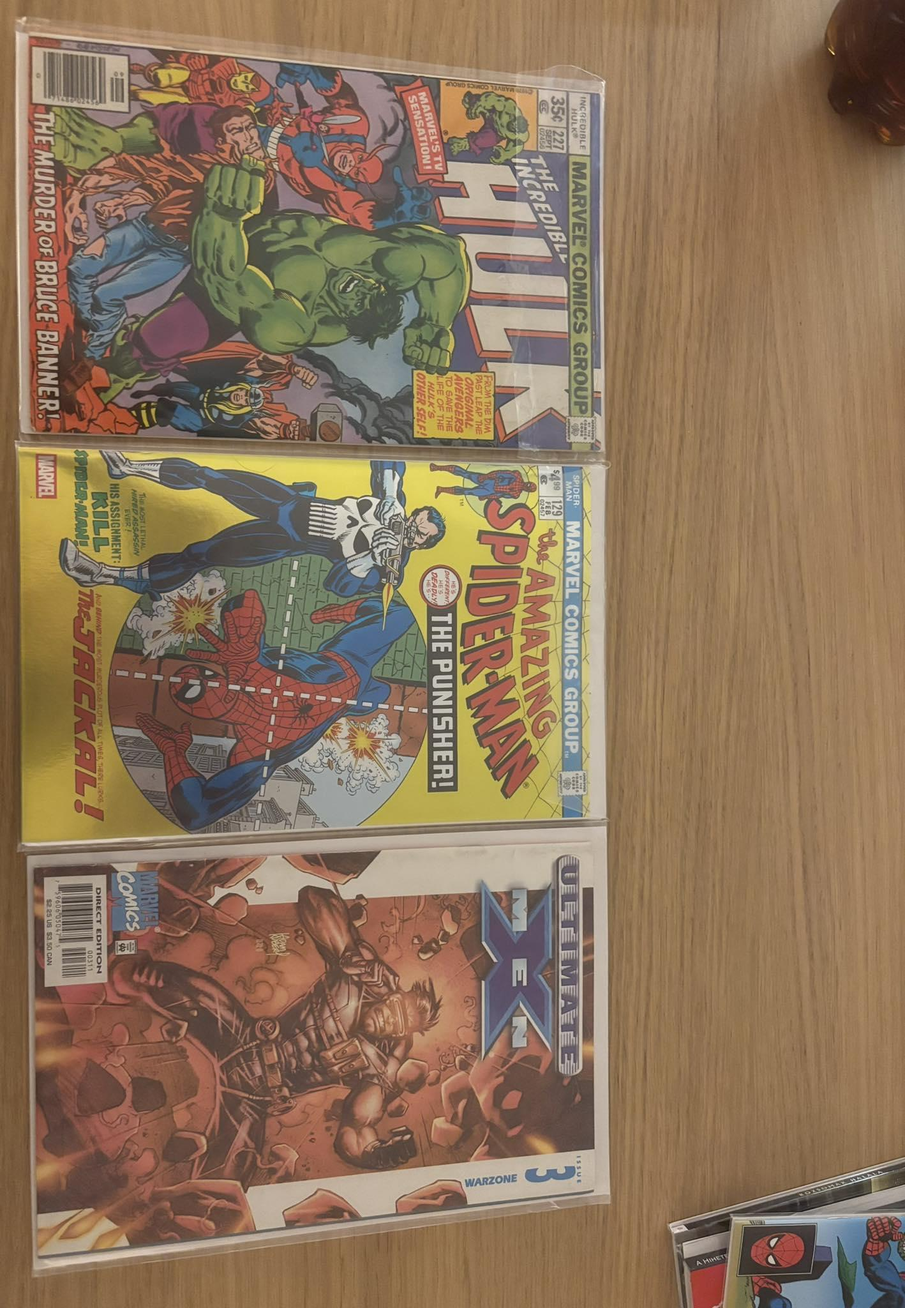comic: (15, 824, 625, 1270), (6, 31, 615, 453), (20, 441, 607, 843)
